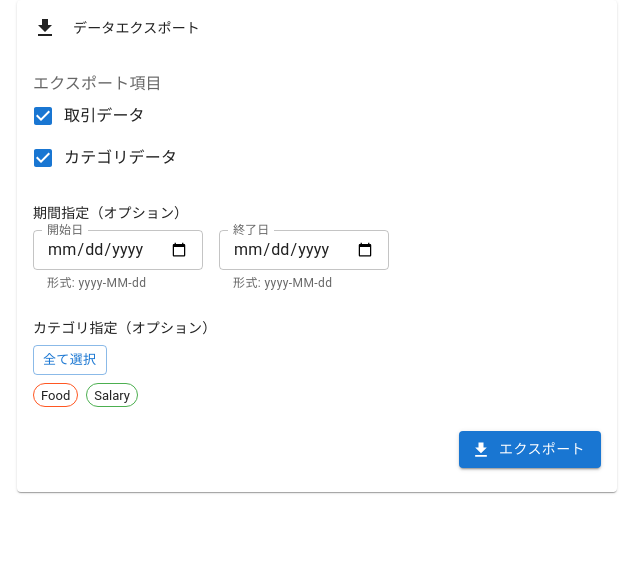
Test: DataExport › should handle export errors
Step 1. Click the button "エクスポート" → (530, 450), box [459, 431, 601, 468]
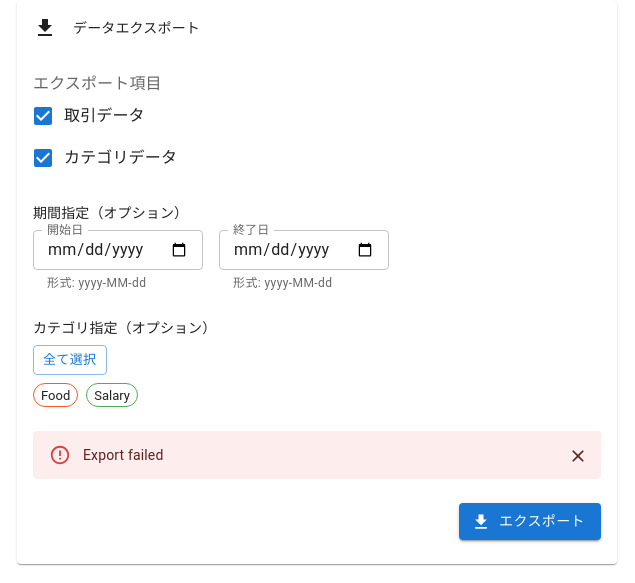
Expected: the button "エクスポート" is enabled, [459, 503, 601, 540]
Now the text "Export failed" is shown, box [83, 447, 164, 463]
